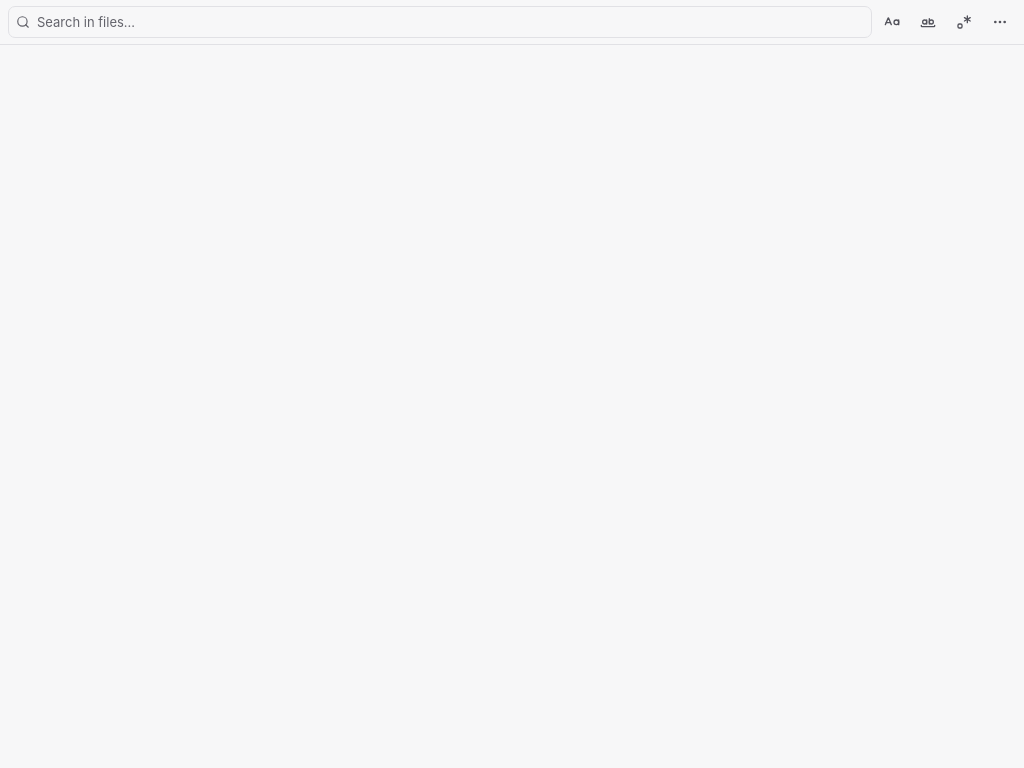
ContentSearch › busy: tells so, and Retry sends the same search again
This screenshot has width=1024, height=768.
Type "foo" into the search field named "Search file contents".
click(440, 22); type("foo")  # box [8,6,872,38]
Wait 300 ms
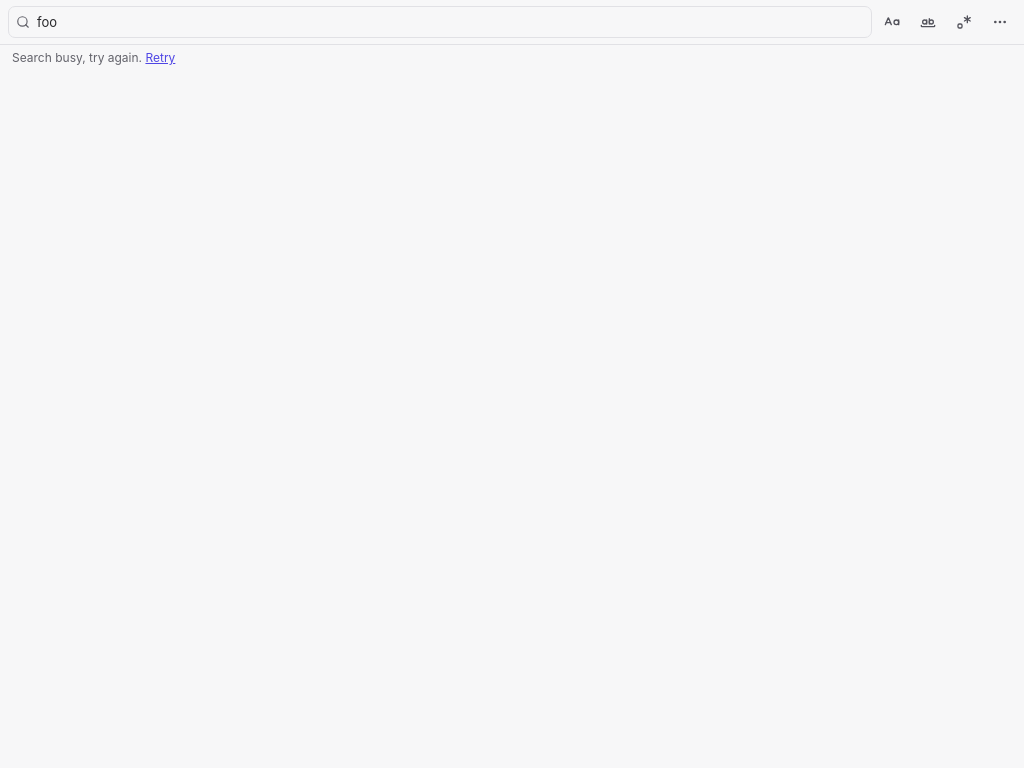
Check: the text "Search busy, try again. Retry" is shown, box [12,49,175,67]
Click the button "Retry".
click(160, 58)  # box [145,49,175,67]
Wait 300 ms
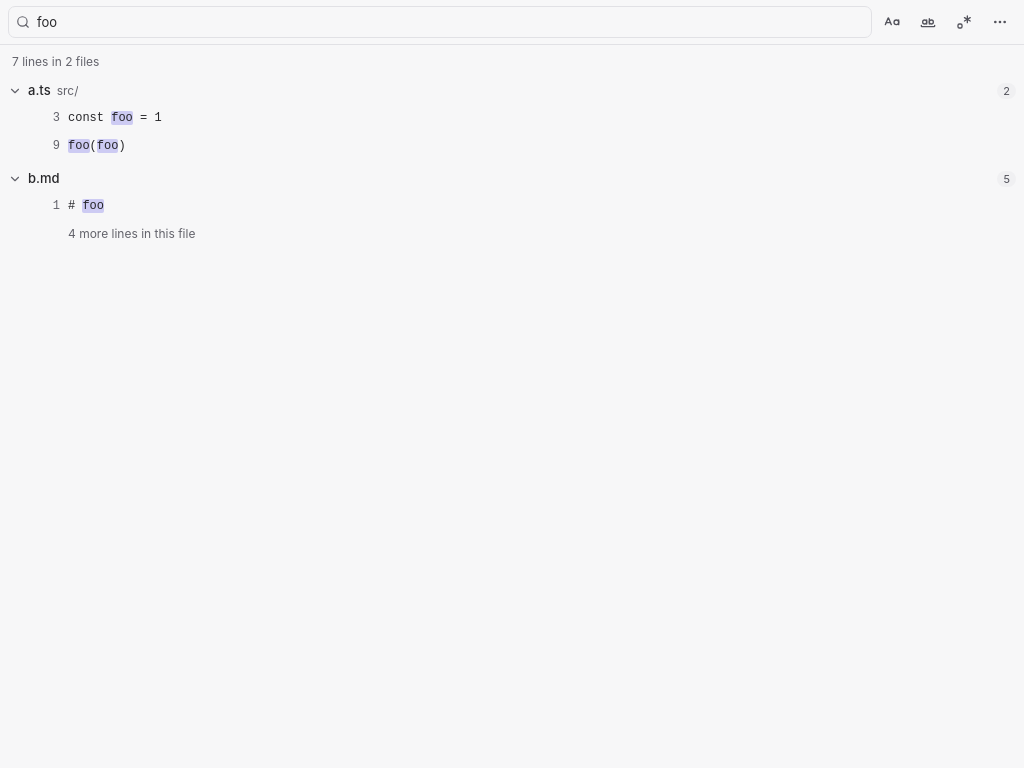
Check: the text "7 lines in 2 files" is shown, box [12,54,99,69]
